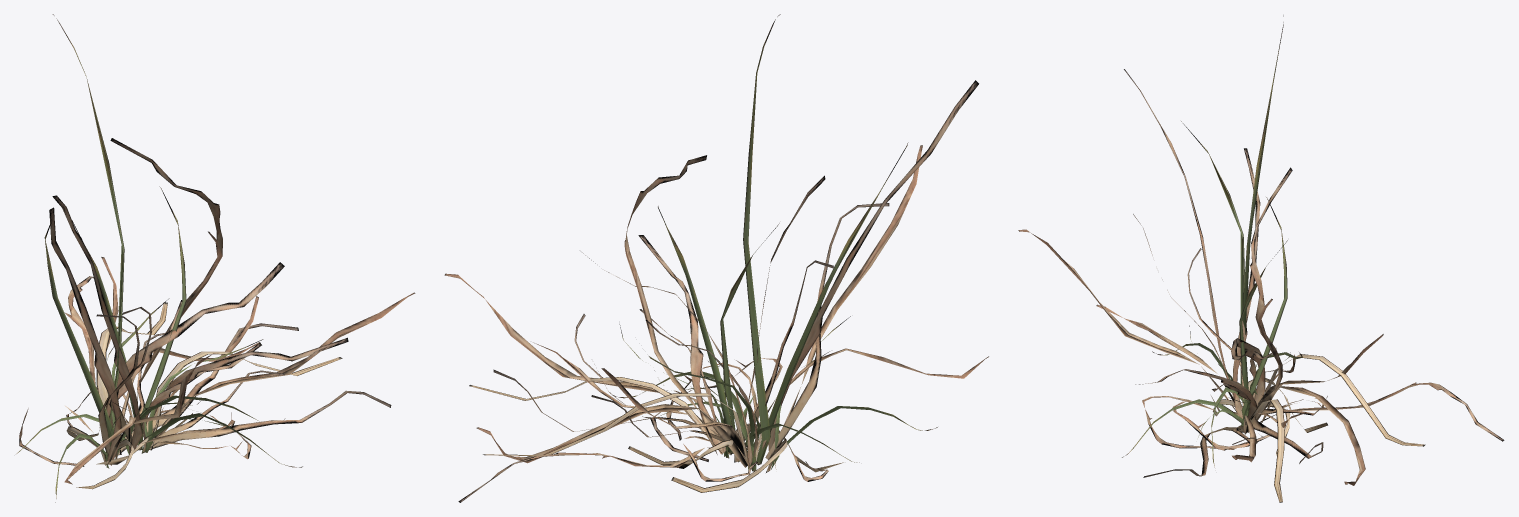
Rendered from grass_medium_02_v2.glb.
3 views of the same model, side by side, from view 1: azimuth 30°, elevation 25°; view 2: azimuth 150°, elevation 25°; view 3: azimuth 270°, elevation 25° (orthographic). The views are drawn at different scales.
Parts seen in each view (by area): view 1: lod0; view 2: lod0; view 3: lod0.
Part boxes in pixels (left/top/right/bottom): lod0: left=16, top=14, right=415, bottom=502; lod0: left=444, top=14, right=988, bottom=502; lod0: left=1018, top=15, right=1504, bottom=502.
Size of what is drawn, in the model's own units: 0.1791 by 0.1794 by 0.1992.
Materials: 1 (1 with a texture image).
